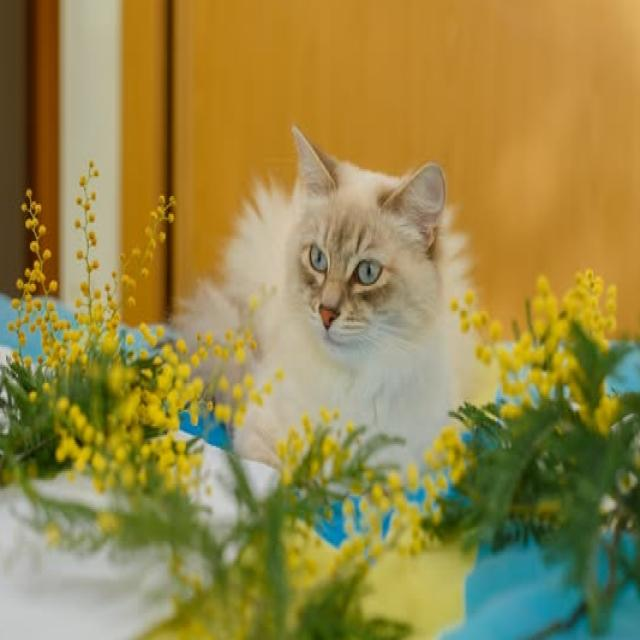Neva Masquerade: (170, 119, 501, 497)
